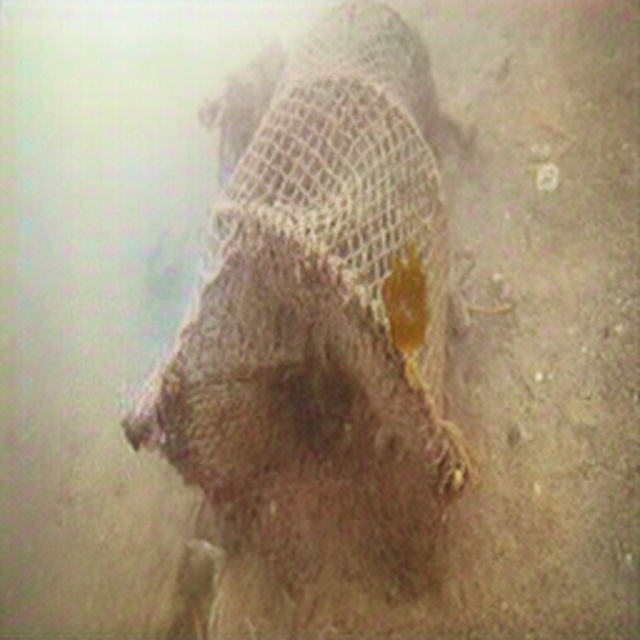mine: (122, 0, 454, 606)
